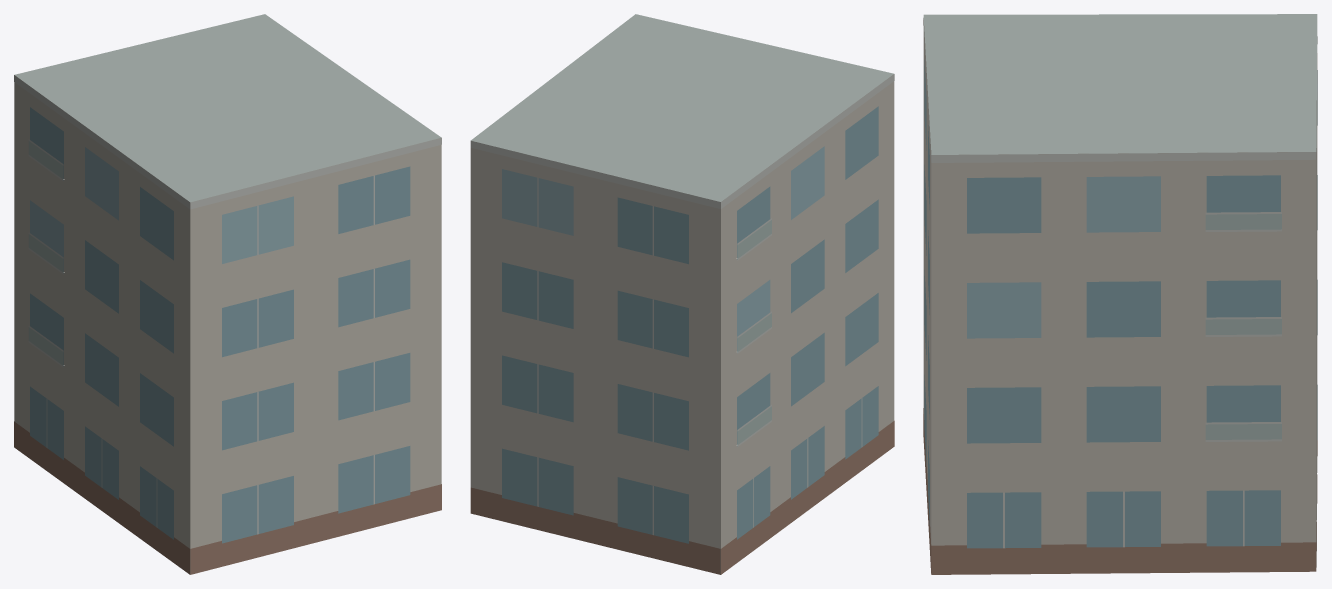
Rendered from survey-upis-33037830.glb.
3 renders of one model, left to right at view 1: azimuth 30°, elevation 25°; view 2: azimuth 150°, elevation 25°; view 3: azimuth 270°, elevation 25°, orthographic. The views are drawn at different scales.
Parts seen in each view (by area): view 1: survey-upis-33037830.tmp; view 2: survey-upis-33037830.tmp; view 3: survey-upis-33037830.tmp.
Boxes of the visible parts, x1,y1,x2,y2 form: survey-upis-33037830.tmp: [14, 14, 441, 574]; survey-upis-33037830.tmp: [470, 14, 894, 574]; survey-upis-33037830.tmp: [923, 14, 1317, 574].
Size of the model in its own units: 9.26 by 12.8 by 10.9.
